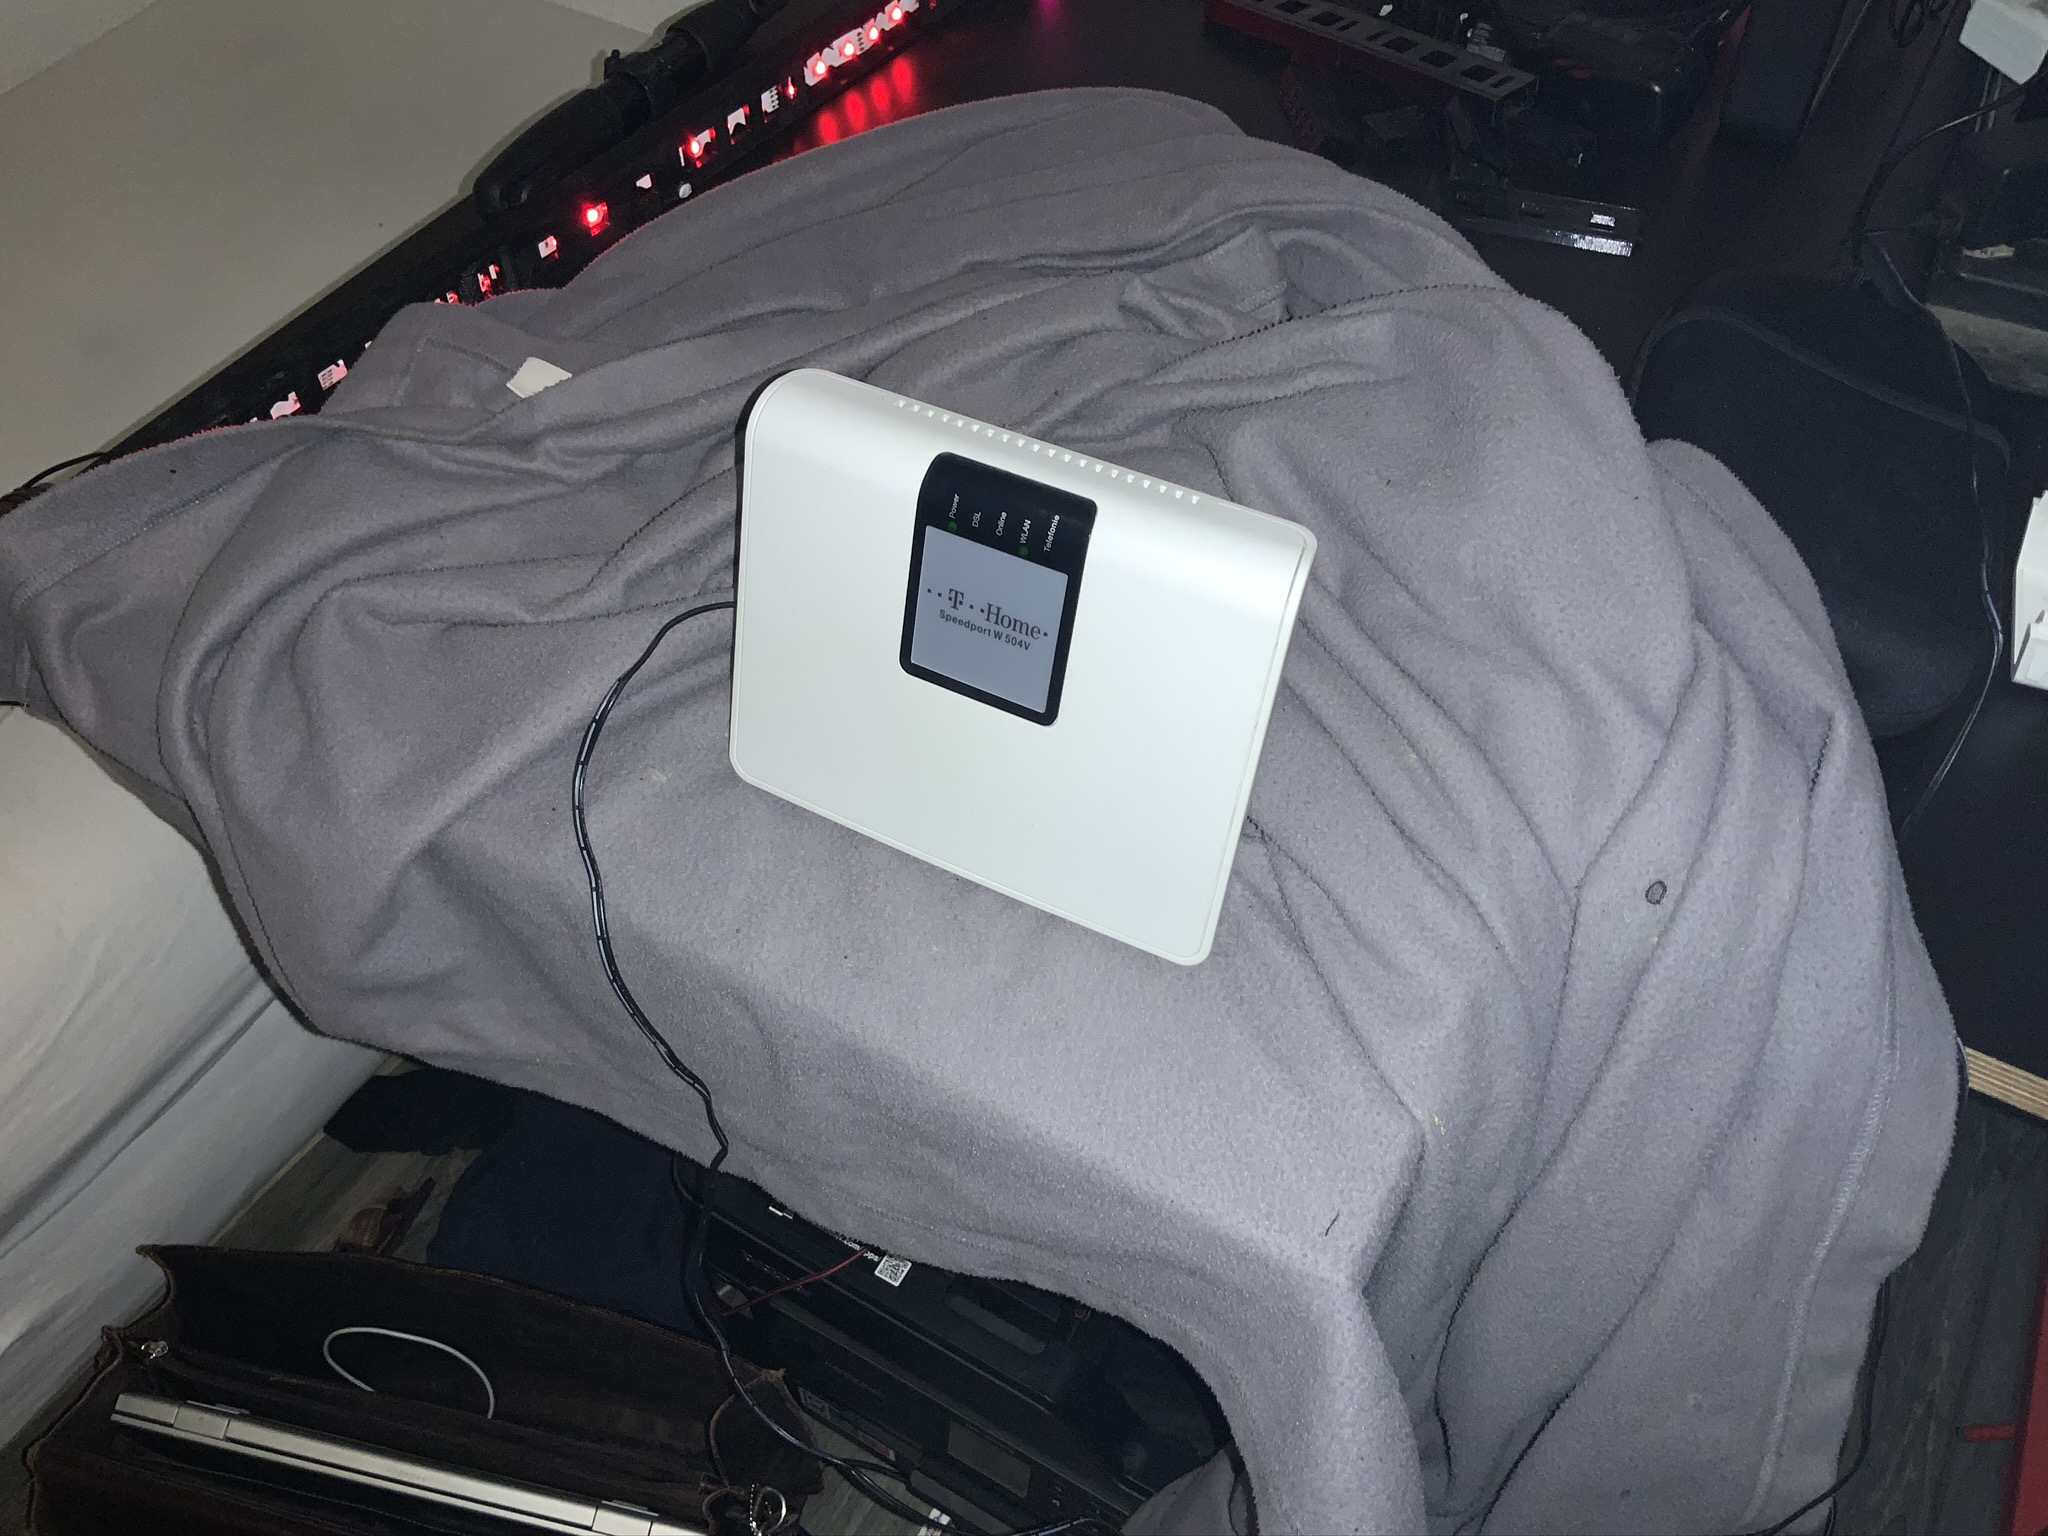Router2: (722, 360, 1324, 997)
